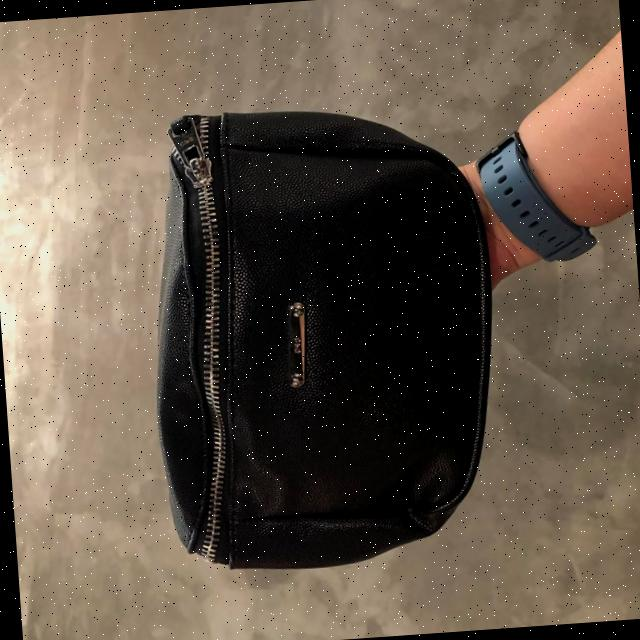Handbag: (128, 95, 513, 582)
